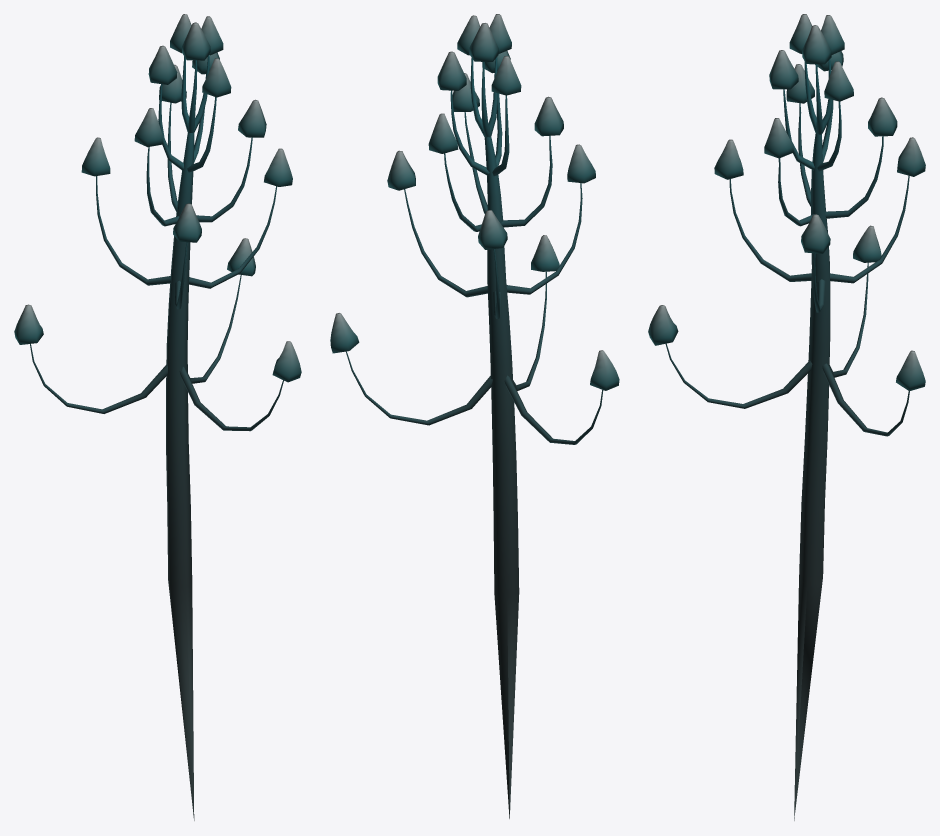
File: plants-flowers-teal-bell-flower_v6.fbx
The picture shows the model from 3 angles, left to right: view 1: azimuth 30°, elevation 25°; view 2: azimuth 150°, elevation 25°; view 3: azimuth 270°, elevation 25°; orthographic projection. The views are drawn at different scales.
Parts seen in each view (by area): view 1: Teal Bell Flower_v6; view 2: Teal Bell Flower_v6; view 3: Teal Bell Flower_v6.
Boxes of the visible parts, x1,y1,x2,y2 form: Teal Bell Flower_v6: [14, 14, 301, 820]; Teal Bell Flower_v6: [330, 14, 619, 818]; Teal Bell Flower_v6: [648, 14, 925, 820].
Bounding box in the file's own units: 0.2061 × 0.6 × 0.1864.
